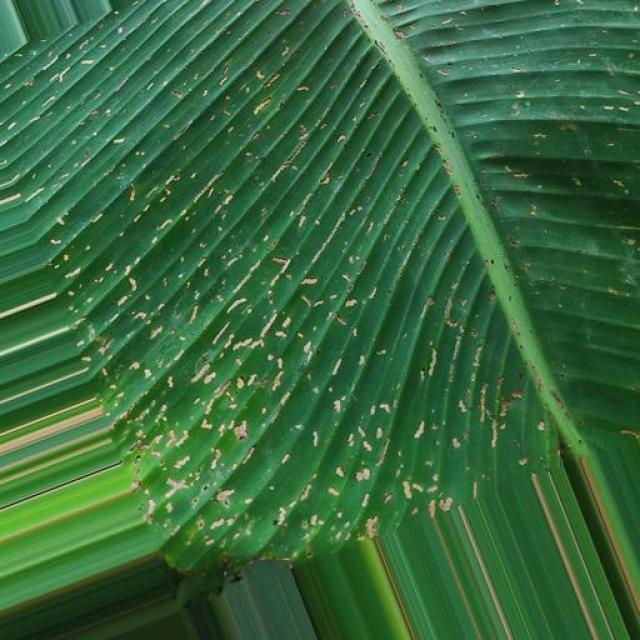Black_rot: (0, 28, 640, 577)
